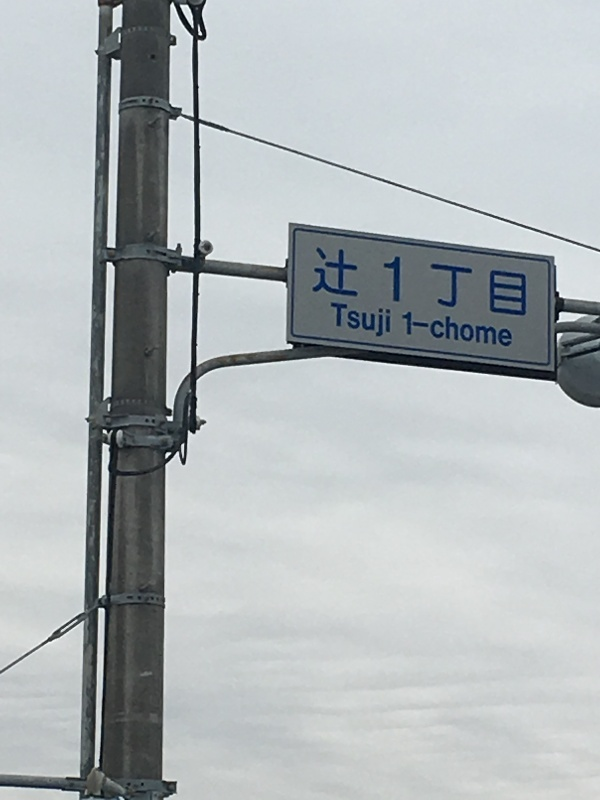text: (321, 246, 336, 319), (337, 246, 352, 319), (353, 246, 368, 319), (369, 246, 384, 319), (385, 246, 400, 319), (401, 246, 416, 319), (417, 246, 432, 319), (433, 246, 448, 319), (449, 246, 464, 319), (465, 246, 480, 319), (481, 246, 496, 319), (497, 246, 512, 319), (513, 246, 527, 319), (497, 311, 513, 348), (337, 301, 352, 339), (353, 301, 368, 339), (369, 301, 384, 339), (417, 311, 432, 348), (433, 311, 448, 348), (449, 311, 464, 348), (465, 311, 480, 348), (481, 311, 496, 348), (403, 311, 416, 348), (315, 246, 320, 319), (385, 301, 391, 339), (331, 301, 336, 339)
